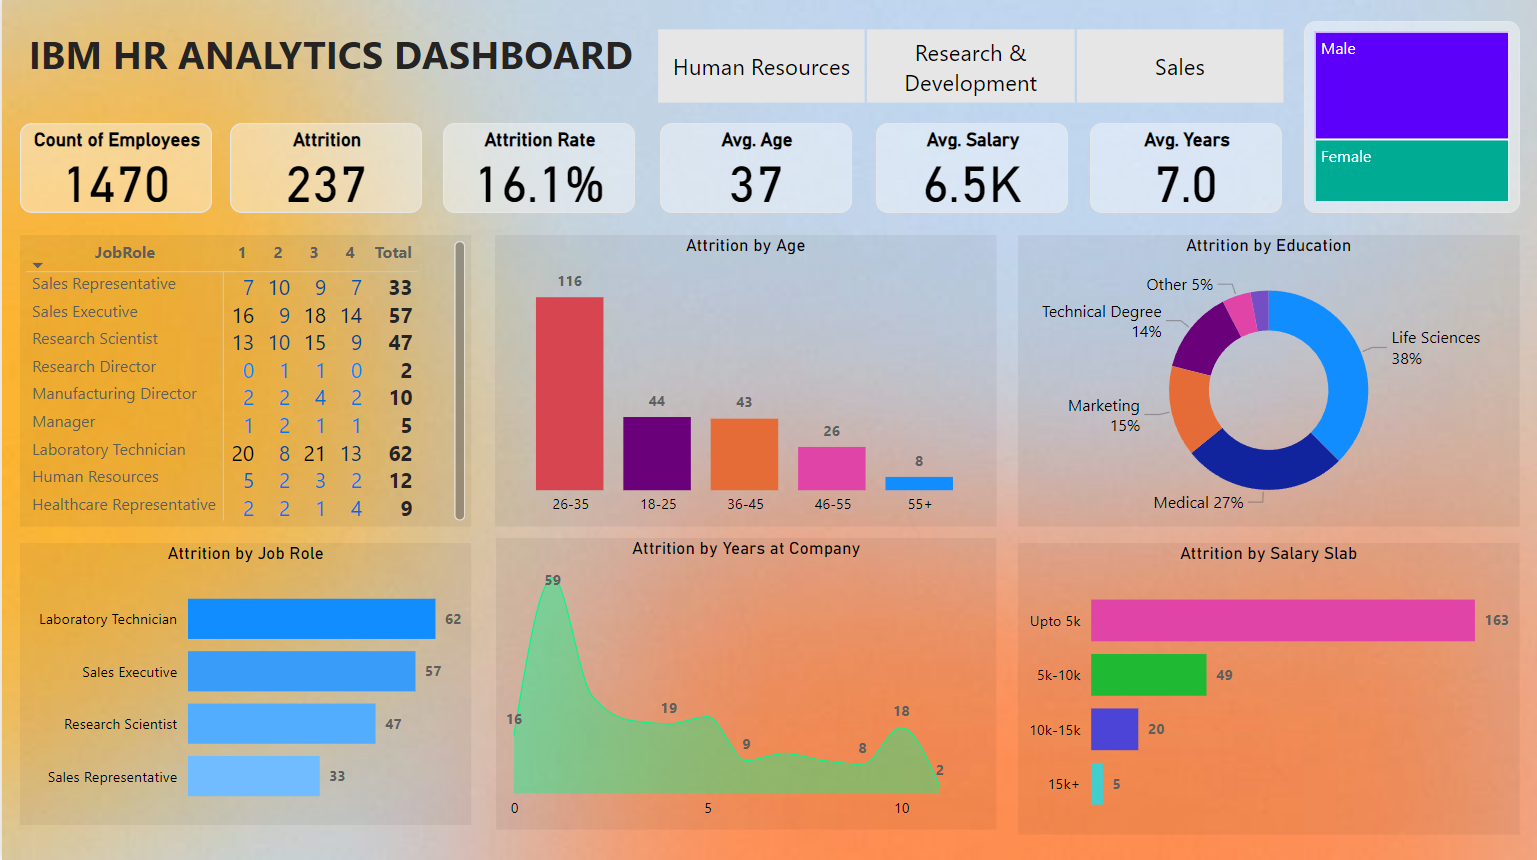

This screenshot's page, from the dashboard's own definition file:
{"tool":"powerbi","page":{"name":"Page 1","canvas":[1280,720],"ordinal":0},"visuals":[{"type":"card","title":"Count of Employees","fields":{"Values":["CountNonNull(HR_Analytics.EmpID)"]},"box":[15.2,105.6,159.9,75.2],"z":0},{"type":"card","title":"Attrition","fields":{"Values":["Sum(HR_Analytics.AttritionCount)"]},"box":[190.3,105.6,159.9,75.2],"z":1000},{"type":"card","title":"Attrition Rate","fields":{"Values":["HR_Analytics.AtrritionRate"]},"box":[367.3,105.6,159.9,75.2],"z":2000},{"type":"card","title":"Avg. Age","fields":{"Values":["Avg(HR_Analytics.Age)"]},"box":[548.2,105.6,159.9,75.2],"z":3000},{"type":"card","title":"Avg. Salary","fields":{"Values":["Avg(HR_Analytics.MonthlyIncome)"]},"box":[728,105.6,159.9,75.2],"z":4000},{"type":"card","title":"Avg. Years","fields":{"Values":["Avg(HR_Analytics.YearsAtCompany)"]},"box":[906.9,105.6,159.9,75.2],"z":5000},{"type":"donutChart","title":"Attrition by Education","fields":{"Category":["HR_Analytics.EducationField"],"Y":["Sum(HR_Analytics.AttritionCount)"]},"box":[847,198.9,417.8,242.7],"z":6000},{"type":"columnChart","title":"Attrition by Age","fields":{"Category":["HR_Analytics.AgeGroup"],"Y":["Sum(HR_Analytics.AttritionCount)"]},"box":[411.1,198.9,417.8,242.7],"z":7000},{"type":"pivotTable","fields":{"Rows":["HR_Analytics.JobRole"],"Columns":["HR_Analytics.JobSatisfaction"],"Values":["Sum(HR_Analytics.AttritionCount)"]},"box":[15.2,199,376.3,242.5],"z":8000},{"type":"barChart","title":"Attrition by Salary Slab","fields":{"Category":["HR_Analytics.SalarySlab"],"Y":["Sum(HR_Analytics.AttritionCount)"]},"box":[847,455.9,417.8,242.7],"z":9000},{"type":"barChart","title":"Attrition by Job Role","fields":{"Category":["HR_Analytics.JobRole"],"Y":["Sum(HR_Analytics.AttritionCount)"]},"box":[15.2,455.7,376.3,234.9],"z":10000},{"type":"areaChart","title":"Attrition by Years at Company","fields":{"Category":["HR_Analytics.YearsAtCompany"],"Y":["Sum(HR_Analytics.AttritionCount)"]},"box":[412.1,451.6,417.2,243],"z":11000},{"type":"treemap","title":"Avg. Years","fields":{"Group":["HR_Analytics.Gender"],"Values":["Sum(HR_Analytics.AttritionCount)"]},"box":[1084.9,20.9,179.9,159.9],"z":12000},{"type":"slicer","fields":{"Values":["HR_Analytics.Department"]},"box":[520.6,20.9,571,75.2],"z":13000},{"type":"textbox","box":[0,20.9,548.2,75.2],"z":14000}]}

Visuals, with their boxes in screenshot pixels (x1, y1, x2, y2), scaled from the page's 1280x720 canvas onto the 1537x860 screenshot:
"Count of Employees" card: box=[18, 126, 210, 216]
"Attrition" card: box=[229, 126, 421, 216]
"Attrition Rate" card: box=[441, 126, 633, 216]
"Avg. Age" card: box=[658, 126, 850, 216]
"Avg. Salary" card: box=[874, 126, 1066, 216]
"Avg. Years" card: box=[1089, 126, 1281, 216]
"Attrition by Education" donutChart: box=[1017, 238, 1519, 527]
"Attrition by Age" columnChart: box=[494, 238, 995, 527]
pivotTable - HR_Analytics.JobRole x HR_Analytics.JobSatisfaction: box=[18, 238, 470, 527]
"Attrition by Salary Slab" barChart: box=[1017, 545, 1519, 834]
"Attrition by Job Role" barChart: box=[18, 544, 470, 825]
"Attrition by Years at Company" areaChart: box=[495, 539, 996, 830]
"Avg. Years" treemap: box=[1303, 25, 1519, 216]
slicer - HR_Analytics.Department: box=[625, 25, 1311, 115]
textbox: box=[0, 25, 658, 115]
